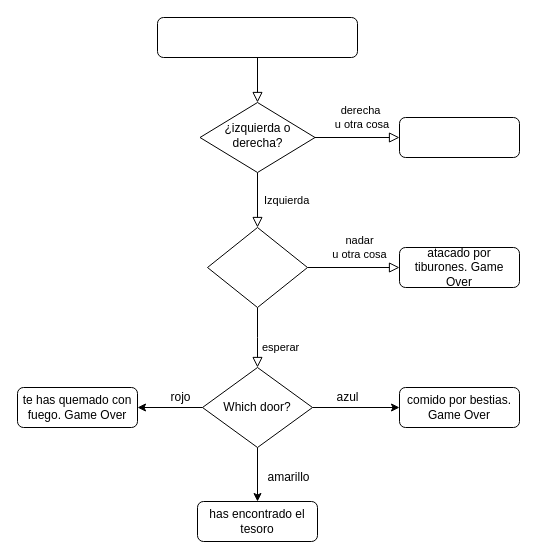
Some shapes in this 537 by 559 pixel diagram are drawn without their labels. The shapes that lost their labels are listed below. From the top down, each one's centre as x and y in pixels, then its label:
At (257,37): "Bienvenido a la isla del tesoro Tu misión es encontrar el tesoro".
At (459,137): "has caído en un agujero. Game Over".
At (257,267): "¿nadar o esperar?".
